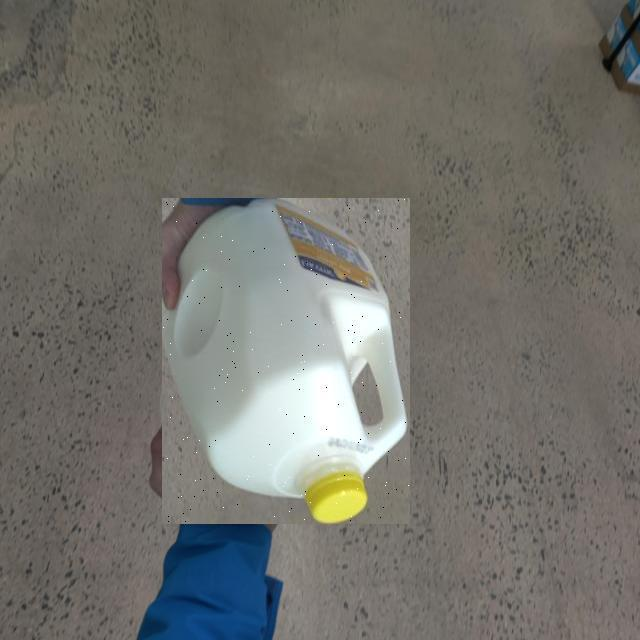milk: (0, 262, 368, 640)
